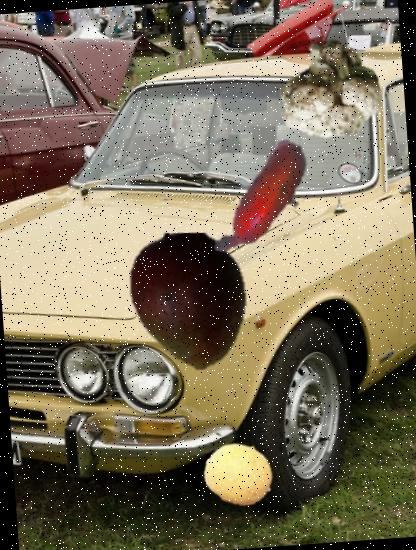Banana: (192, 130, 336, 274)
Cantaloupe: (201, 436, 276, 511)
Cauliflower: (271, 32, 385, 146)
Mango: (115, 228, 260, 374)
